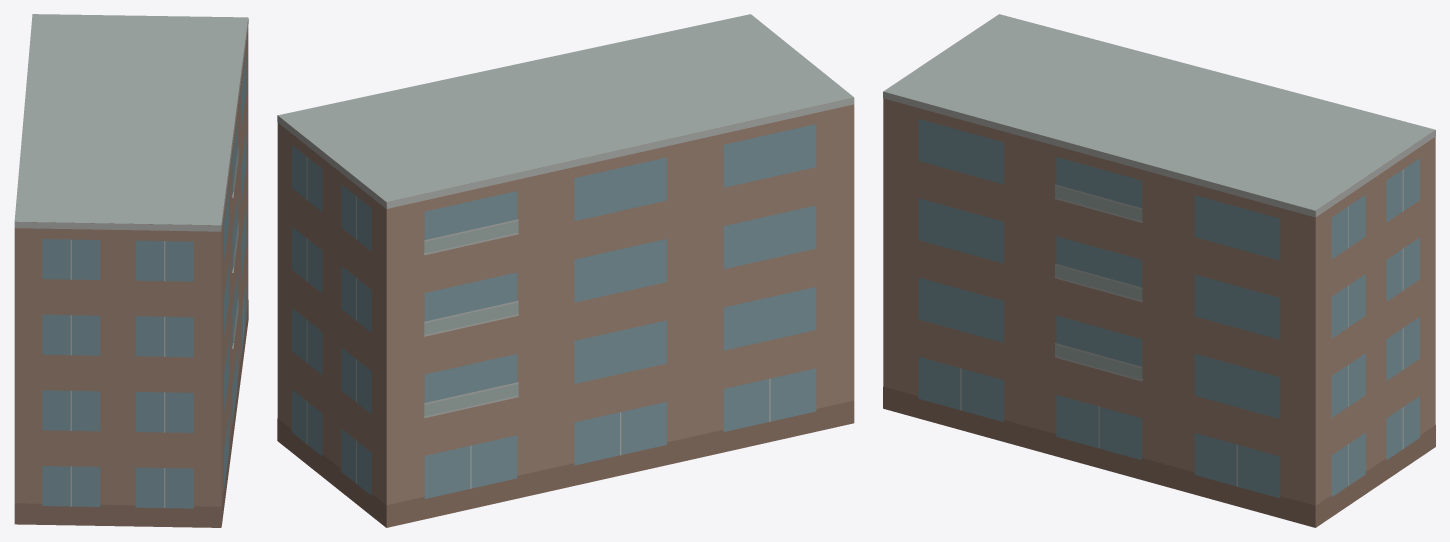
File: survey-upis-32890681.glb
The picture shows the model from 3 angles, left to right: view 1: azimuth 30°, elevation 25°; view 2: azimuth 150°, elevation 25°; view 3: azimuth 270°, elevation 25°; orthographic projection. The views are drawn at different scales.
Parts seen in each view (by area): view 1: survey-upis-32890681.tmp; view 2: survey-upis-32890681.tmp; view 3: survey-upis-32890681.tmp.
Part boxes in pixels (left/top/right/bottom): survey-upis-32890681.tmp: left=14, top=14, right=248, bottom=527; survey-upis-32890681.tmp: left=277, top=14, right=854, bottom=527; survey-upis-32890681.tmp: left=883, top=14, right=1435, bottom=527.
Size of the model in its own units: 15.32 by 11.5 by 18.18.
